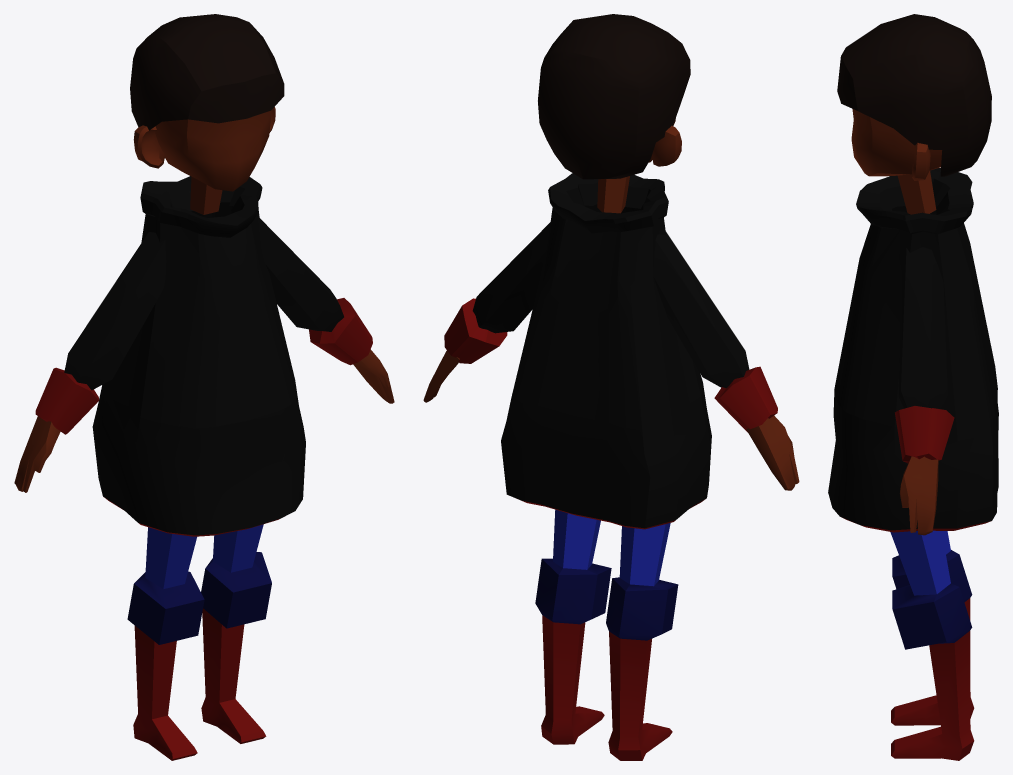
File: littlegirl.obj
3 renders of one model, left to right at view 1: azimuth 30°, elevation 25°; view 2: azimuth 150°, elevation 25°; view 3: azimuth 270°, elevation 25°, orthographic.
Parts seen in each view (by area): view 1: Cube; view 2: Cube; view 3: Cube.
Part boxes in pixels (x1=…): Cube: x1=14, y1=14, x2=394, y2=760; Cube: x1=423, y1=14, x2=799, y2=760; Cube: x1=828, y1=14, x2=998, y2=760.
Size of the model in its own units: 2.05 by 3.8 by 0.8276.
